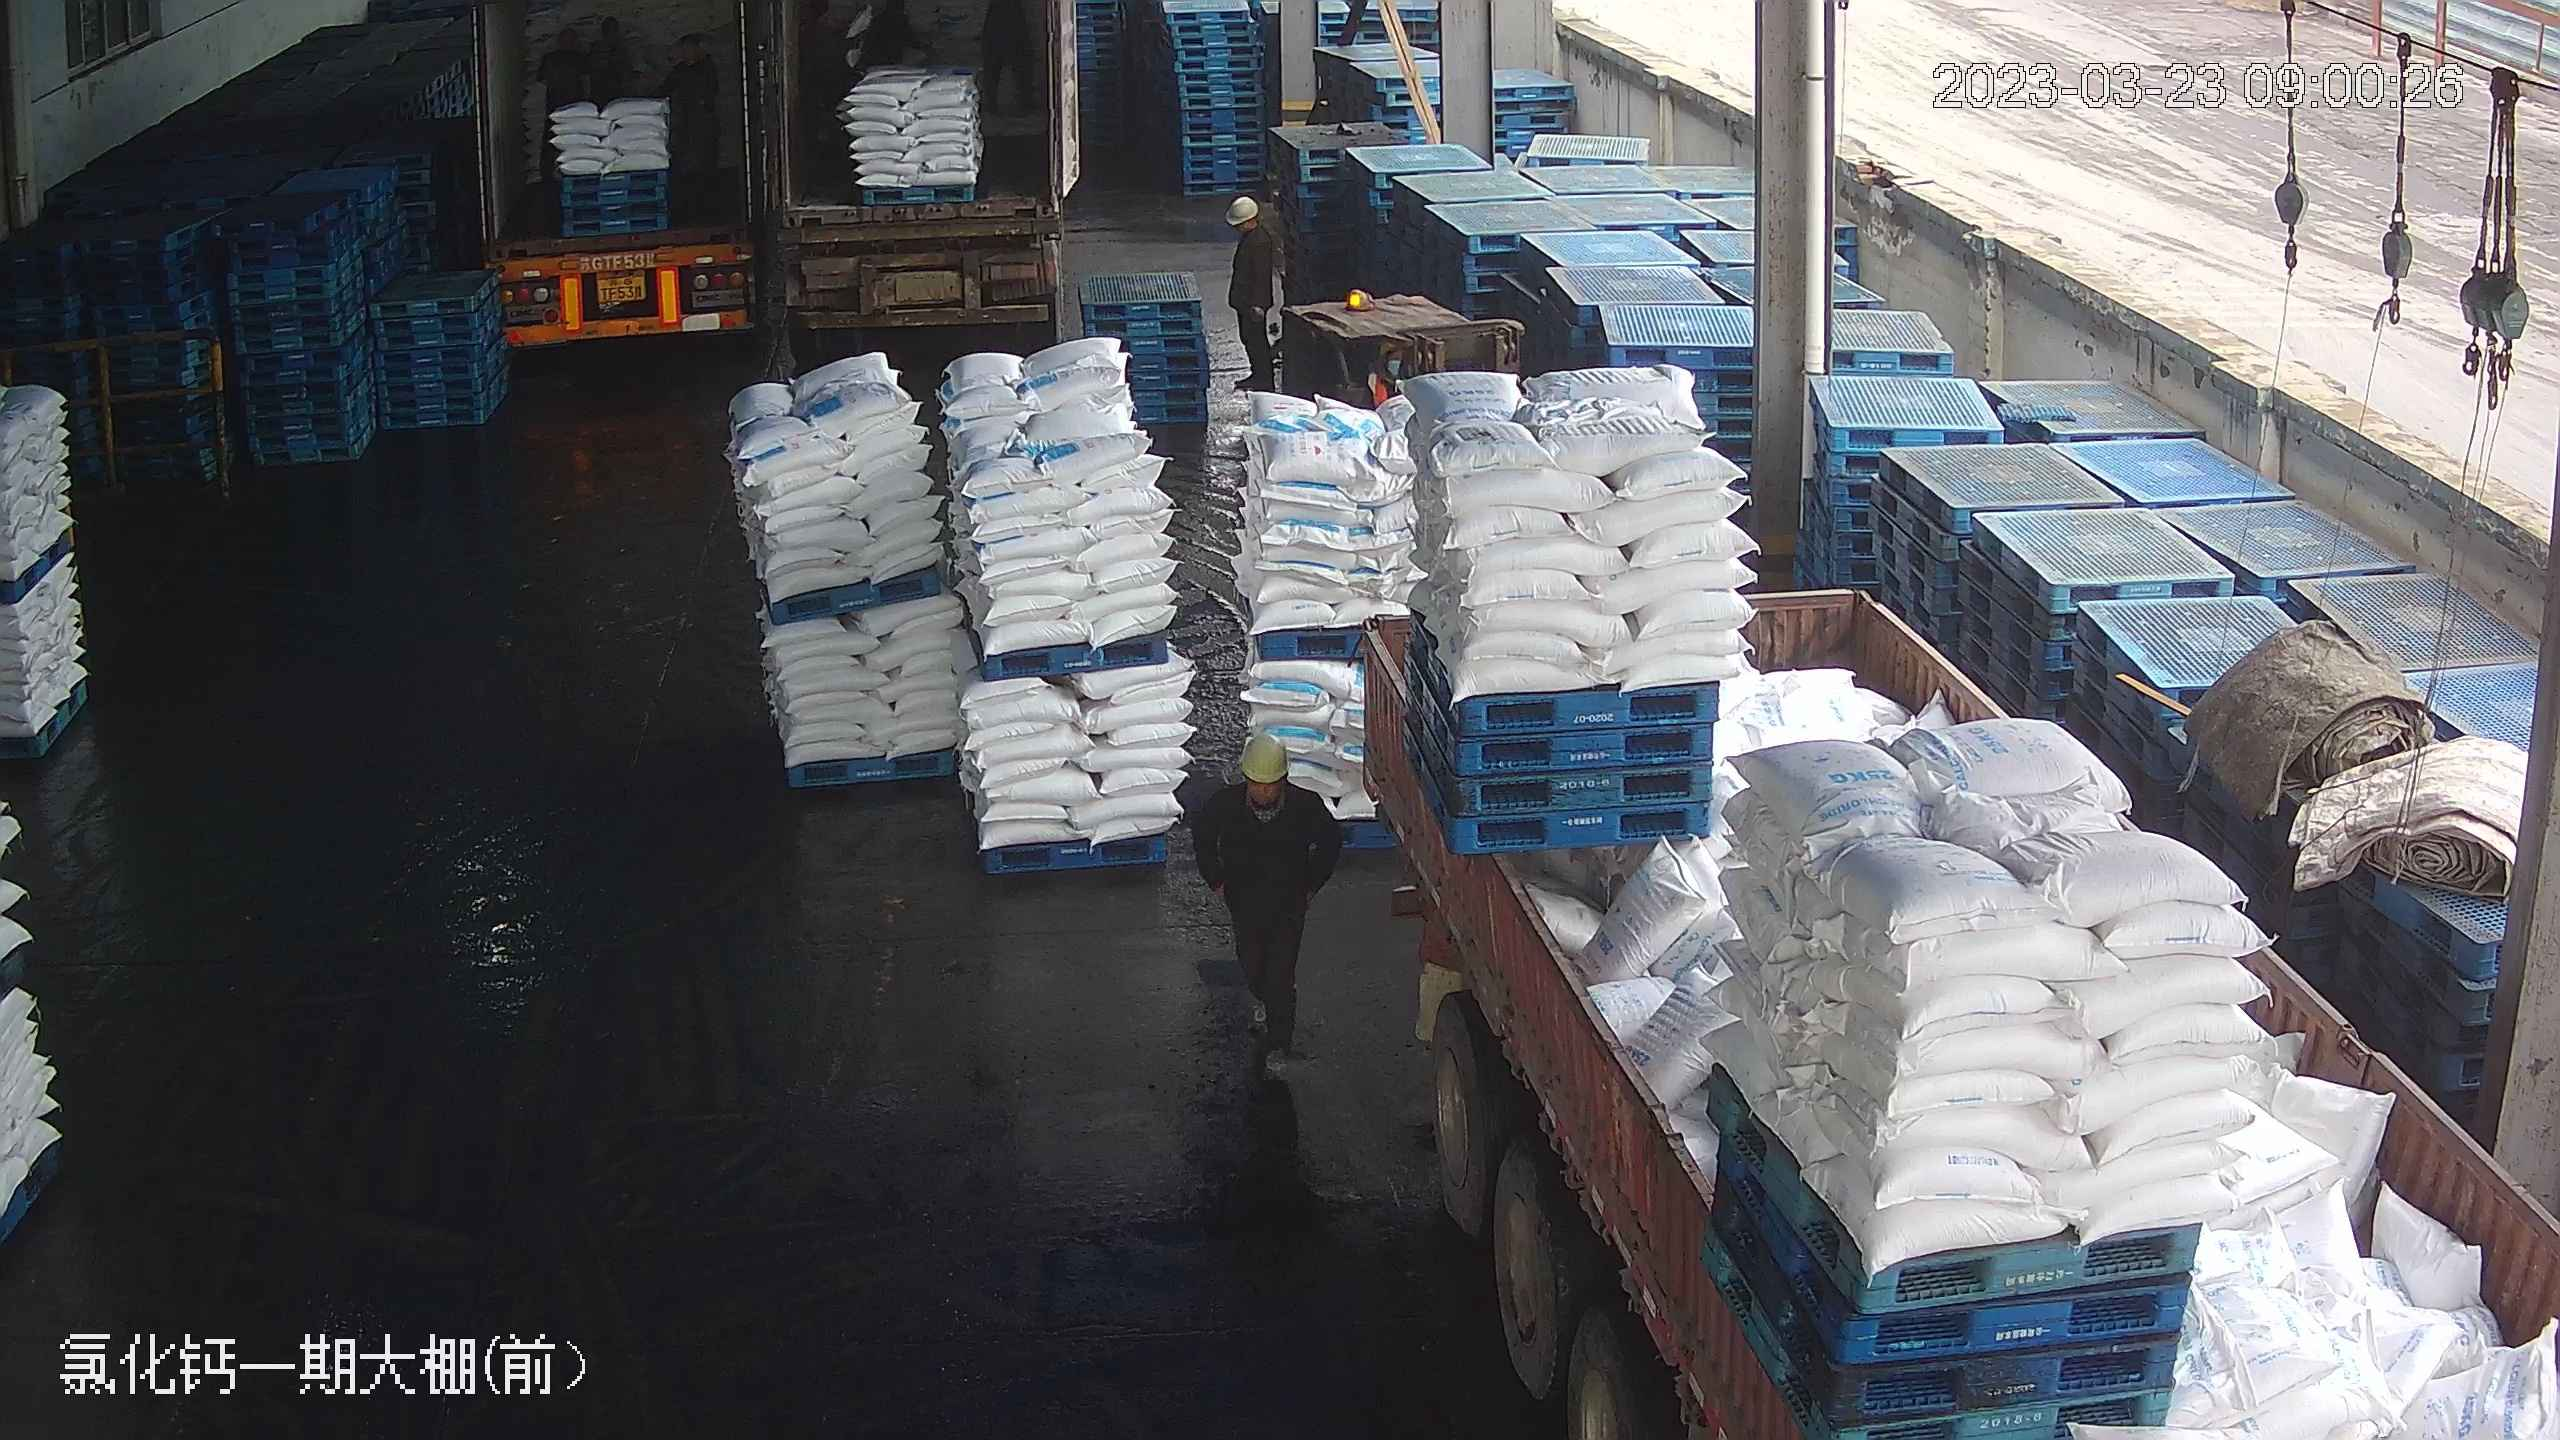head: (1205, 730, 1328, 831), (1228, 192, 1276, 257)
helmet: (1238, 730, 1292, 784), (1231, 192, 1264, 218)
people: (1195, 729, 1345, 1068), (1225, 190, 1284, 396)
truck: (1246, 164, 2522, 1440), (754, 0, 1086, 327), (463, 13, 775, 344)
